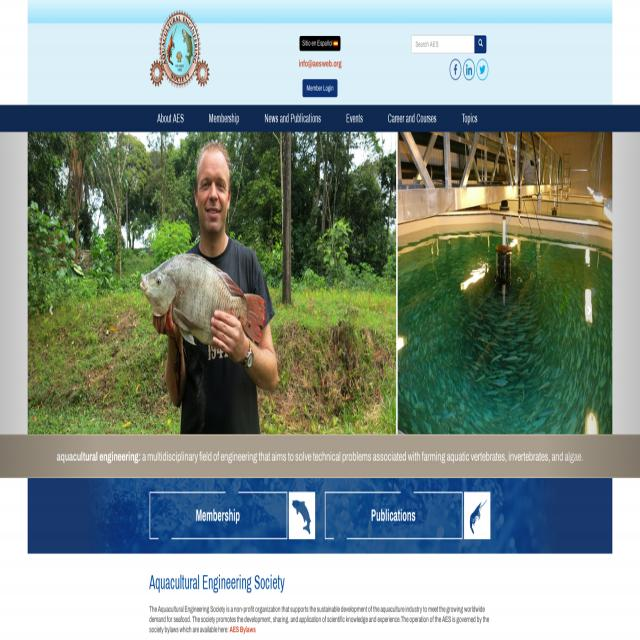button: (28, 130, 395, 434), (398, 132, 612, 434), (325, 492, 463, 538), (150, 494, 288, 539), (150, 10, 210, 89), (252, 105, 334, 132), (375, 105, 449, 132), (196, 105, 252, 132), (144, 105, 197, 132), (334, 105, 376, 132), (450, 105, 490, 132), (302, 79, 338, 97), (42, 296, 59, 325), (449, 59, 462, 81), (463, 59, 475, 81), (476, 59, 488, 81), (474, 35, 486, 53)
field: (411, 35, 475, 53)
